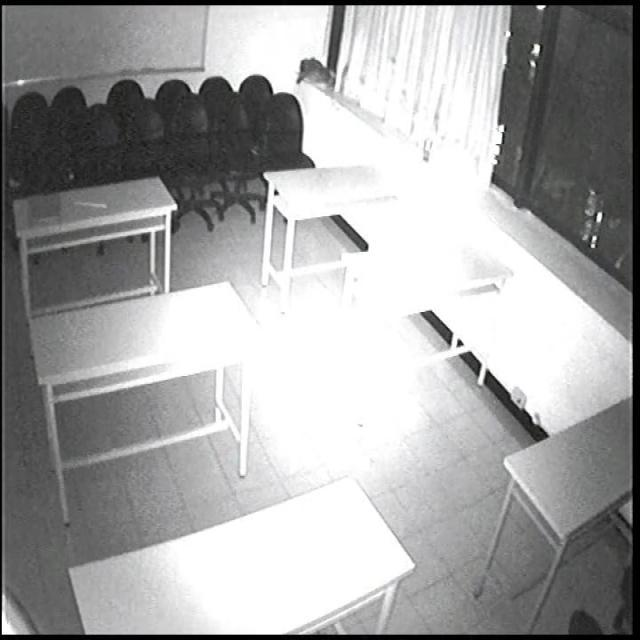abandoned-object: (292, 50, 337, 93)
